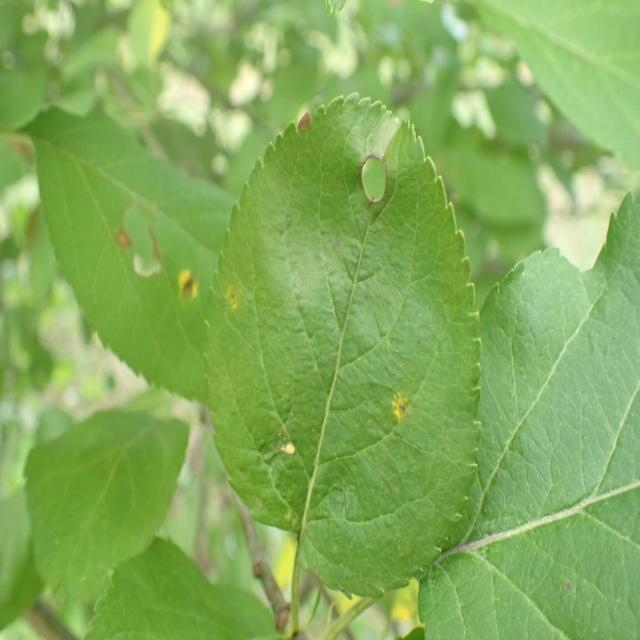Rust: (386, 386, 417, 435), (176, 256, 201, 316), (223, 263, 240, 318)
